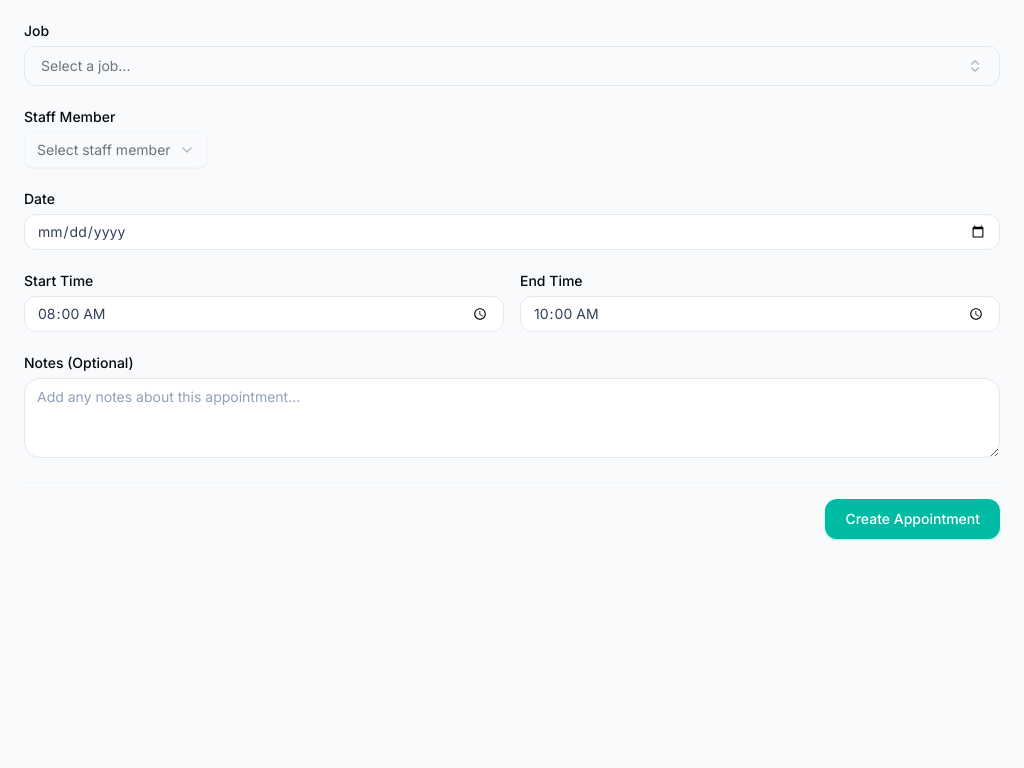
Test: AppointmentForm › shows validation error for missing date
Note: Clear the date input
Clear the date field with test id "date-input" at (512, 232), box [24, 214, 1000, 250]
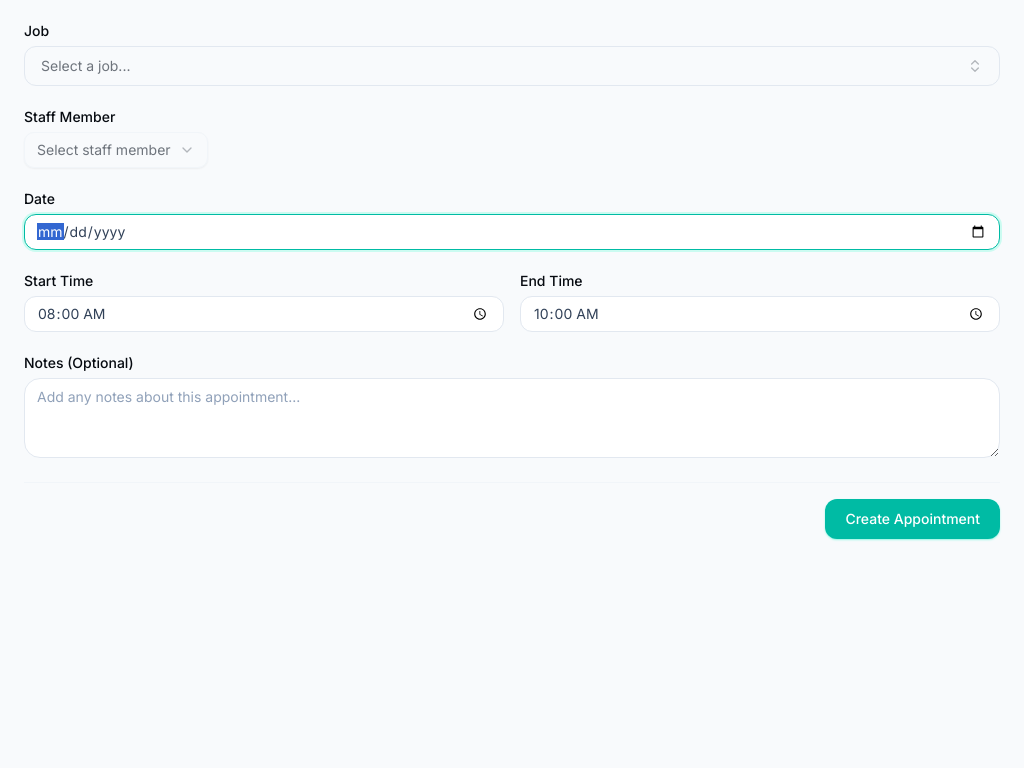
Click the button with test id "submit-btn".
click(913, 519)  # box [825, 499, 1000, 539]
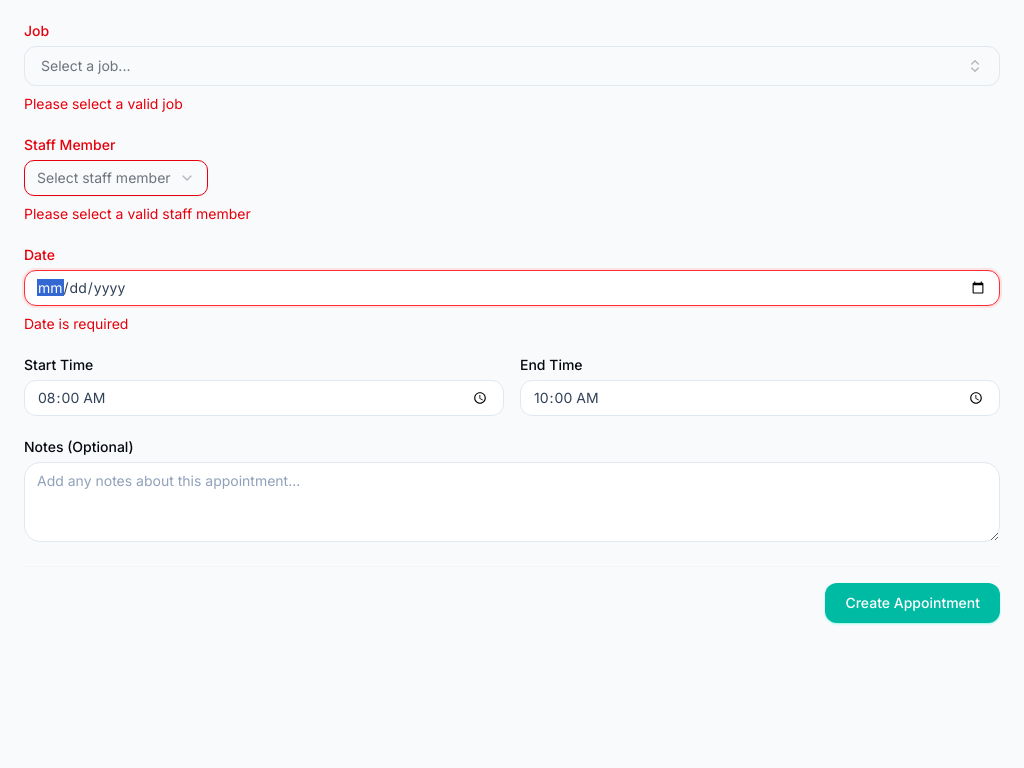
Check: the text "Date is required" is shown, box [24, 315, 128, 332]
